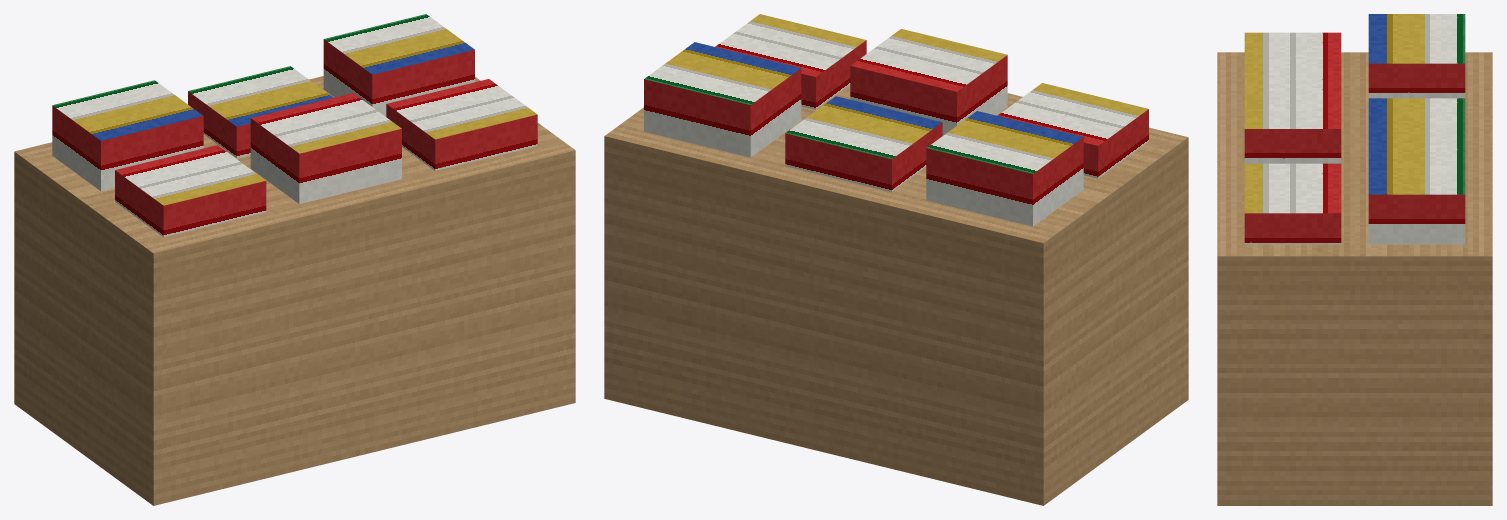
File: clothes_table.glb
The picture shows the model from 3 angles, left to right: view 1: azimuth 30°, elevation 25°; view 2: azimuth 150°, elevation 25°; view 3: azimuth 270°, elevation 25°; orthographic projection. The views are drawn at different scales.
Visible parts, largest first — view 1: clothes_table; view 2: clothes_table; view 3: clothes_table.
Boxes of the visible parts, x1,y1,x2,y2 form: clothes_table: [14, 14, 575, 505]; clothes_table: [604, 14, 1188, 505]; clothes_table: [1217, 14, 1492, 505].
Bounding box in the file's own units: 1.4 × 0.96 × 0.8.
Materials: 2 (2 with a texture image).
